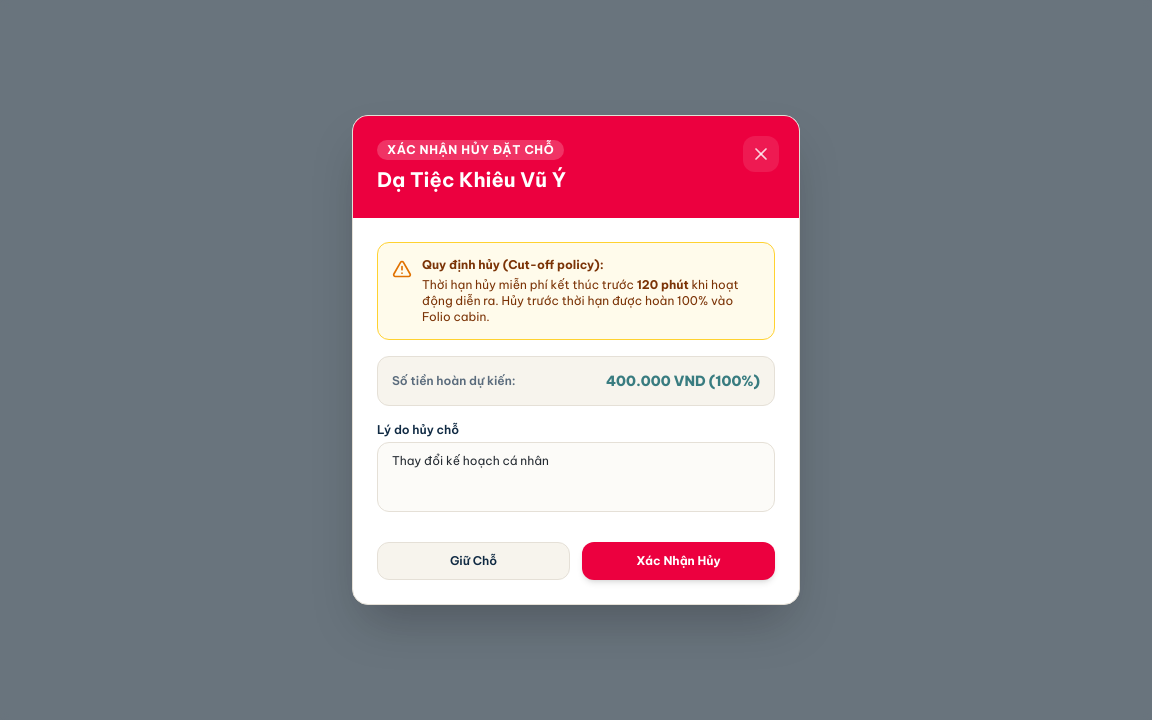
Test: CancelActivityModal Component Tests (KAN-372) › hiển thị lỗi khi API hủy bị từ chối
Click the button "Xác Nhận Hủy": [678, 561] box [582,542,775,580]
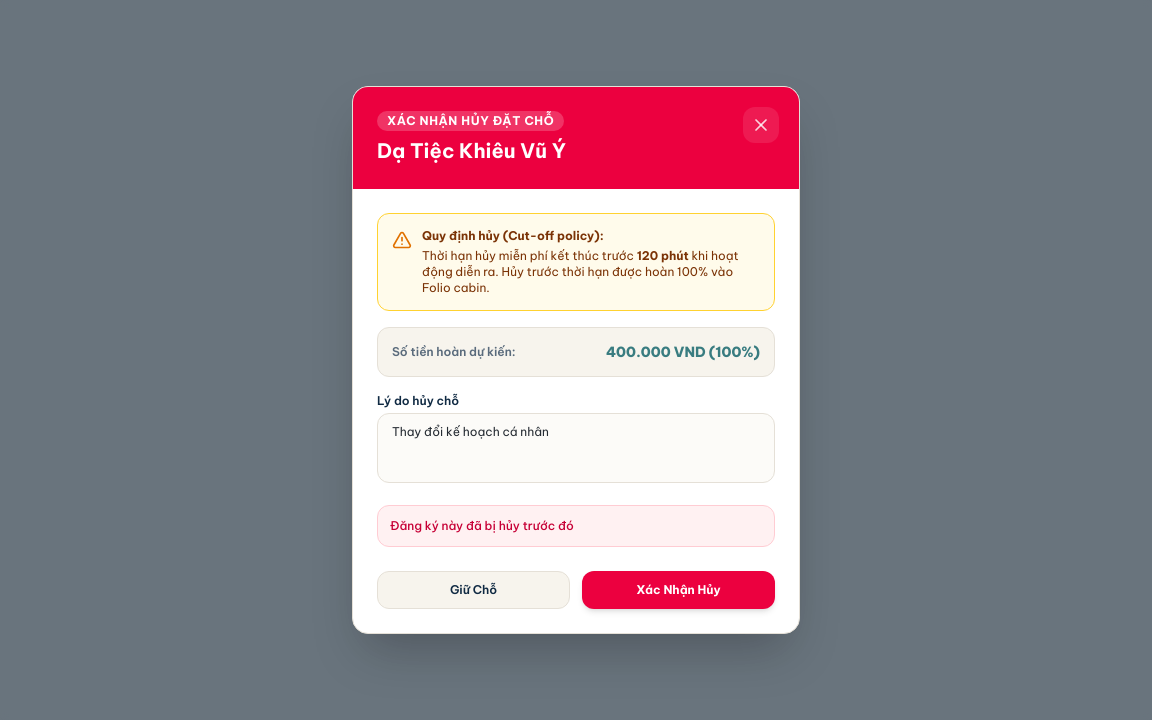
expect the message reads "Đăng ký này đã bị hủy trước đó": met, box [390,518,574,533]
